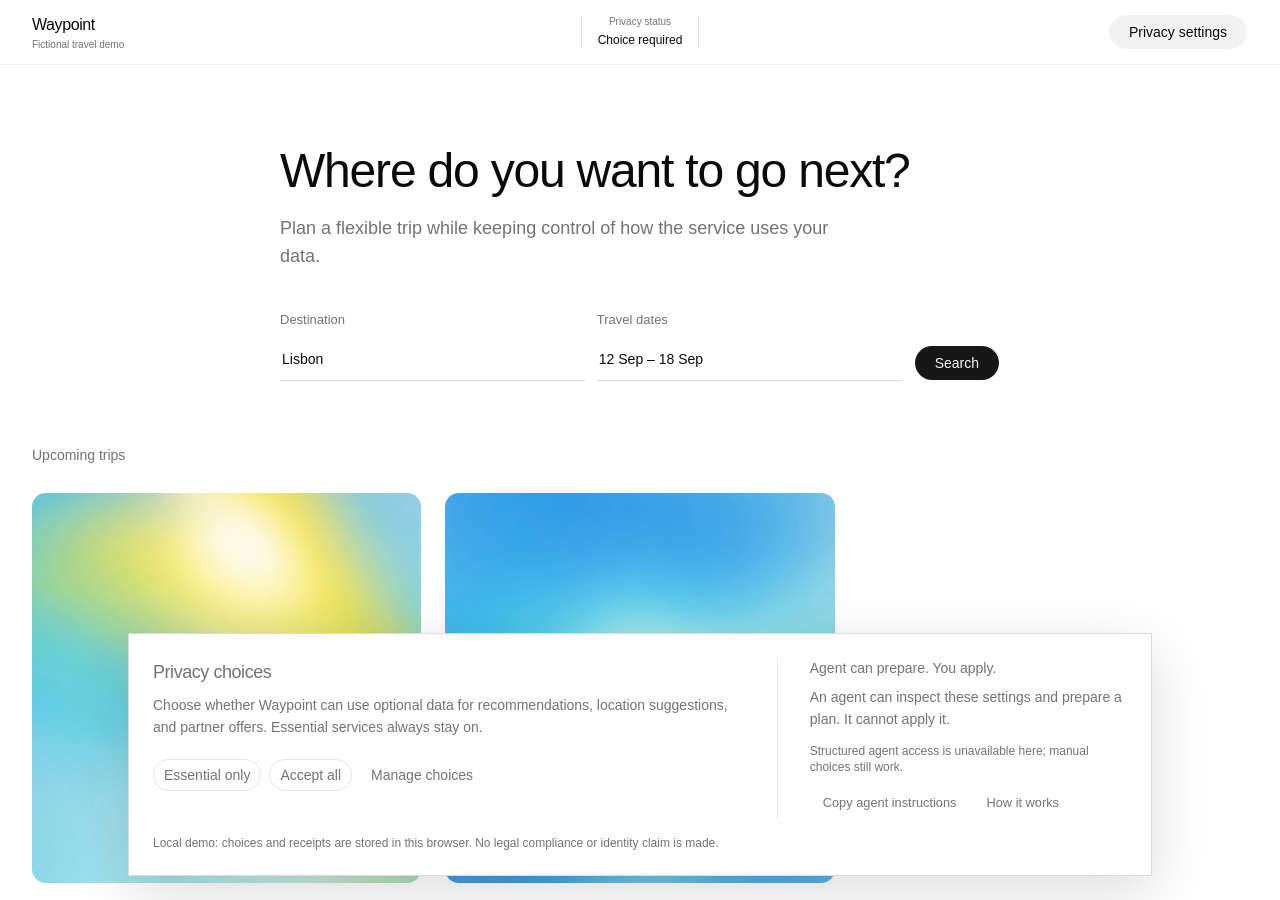
Test: privacy settings UI › keeps the notice pending when Manage choices only opens the settings
Step 1. Click the button "Manage choices" → {"x": 422, "y": 775}, box [360, 759, 484, 791]
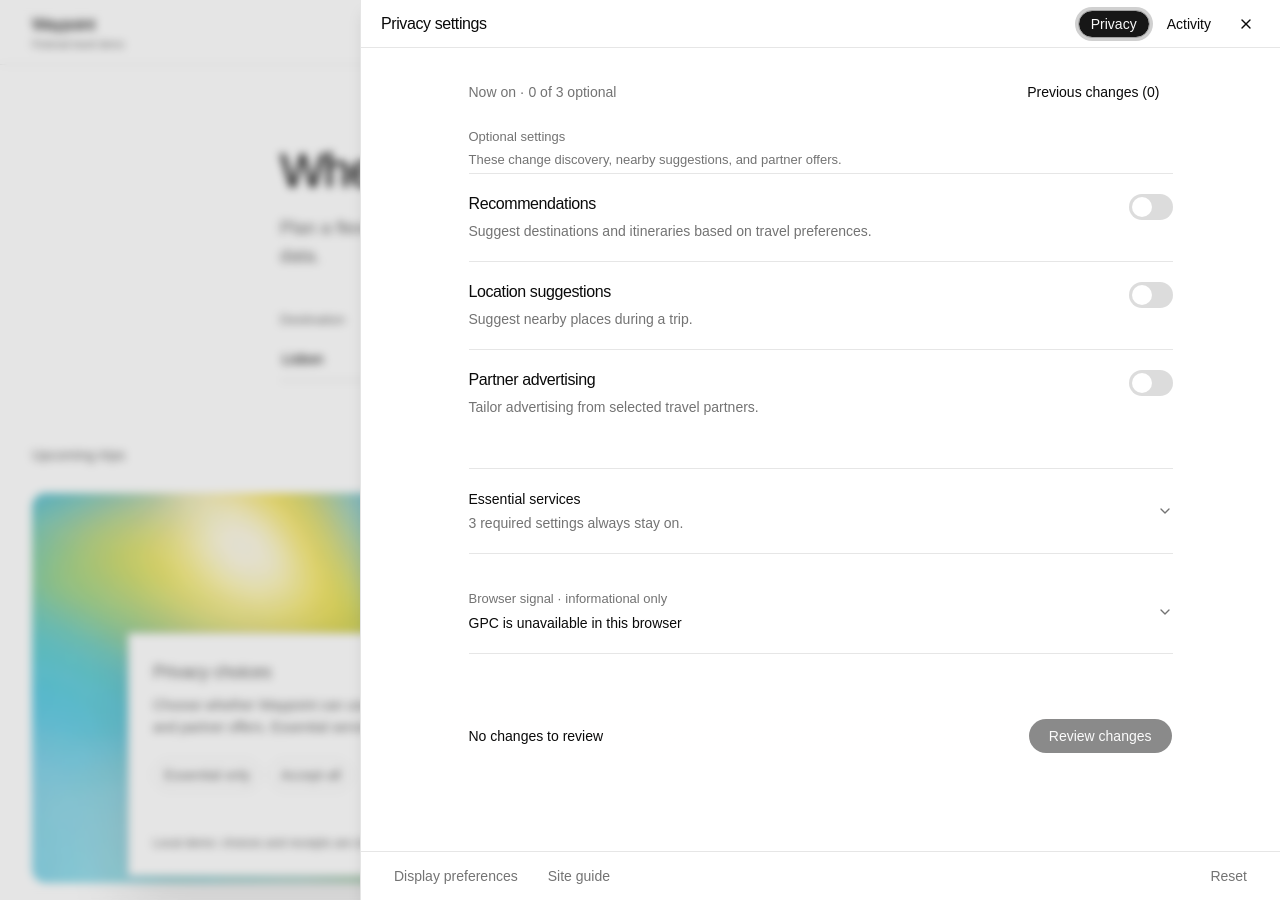
Now the dialog named "Waypoint Privacy Settings" is shown
